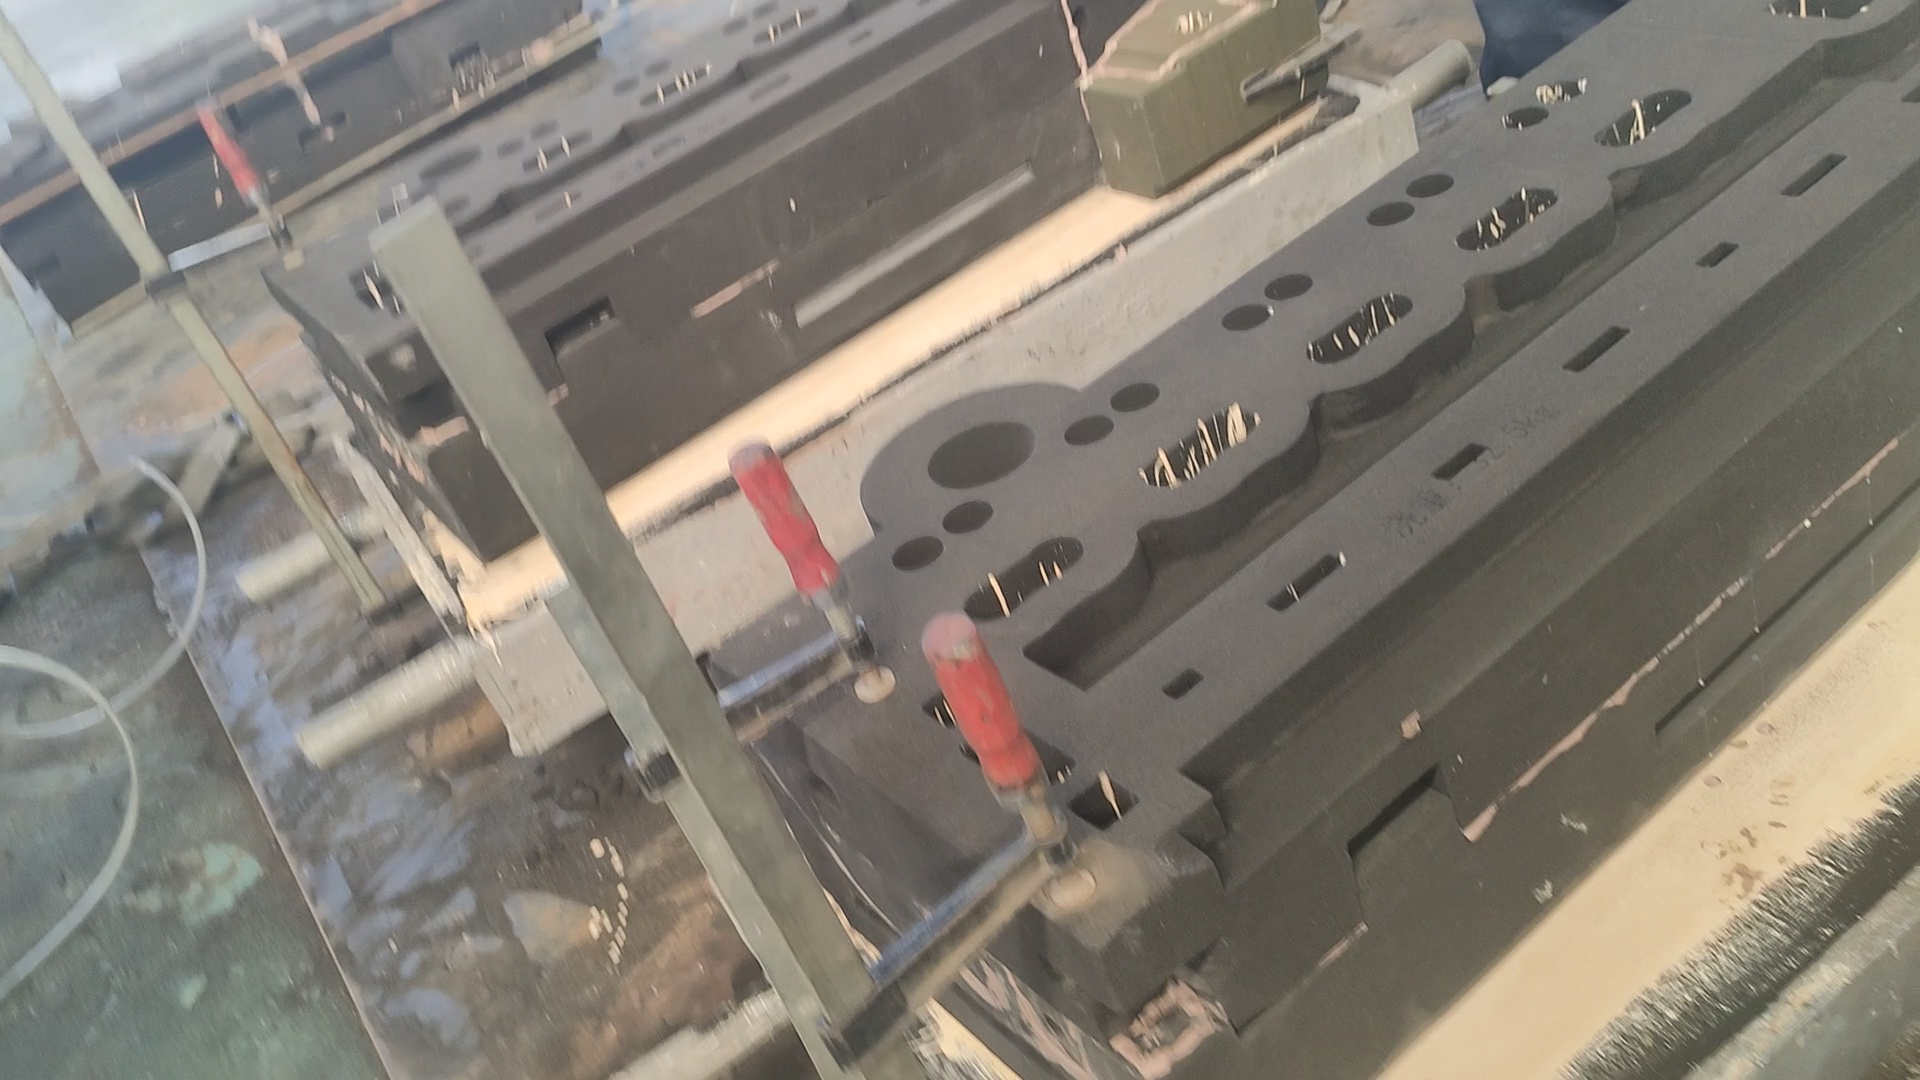pouring hole: (924, 419, 1036, 491), (415, 146, 480, 175), (22, 102, 58, 113)
